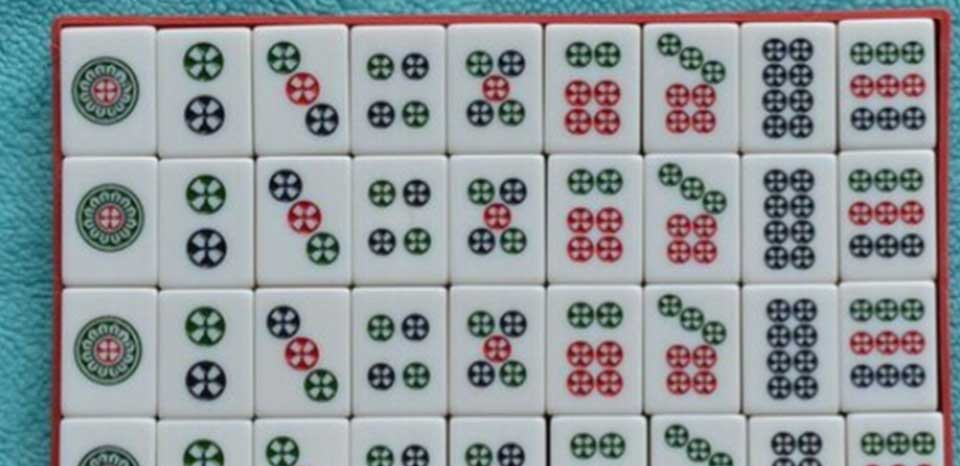pin_1: (61, 29, 159, 158)
pin_2: (161, 26, 256, 154)
pin_3: (258, 28, 354, 154)
pin_4: (350, 26, 450, 156)
pin_5: (449, 26, 545, 154)
pin_6: (554, 28, 641, 154)
pin_7: (645, 26, 740, 153)
pin_8: (745, 26, 836, 153)
pin_9: (841, 26, 938, 149)
